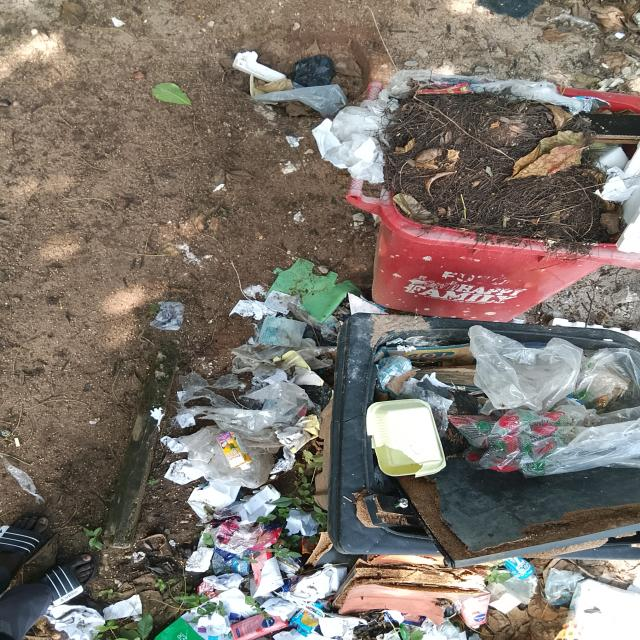overflowing: (338, 306, 640, 555), (366, 64, 640, 252)
